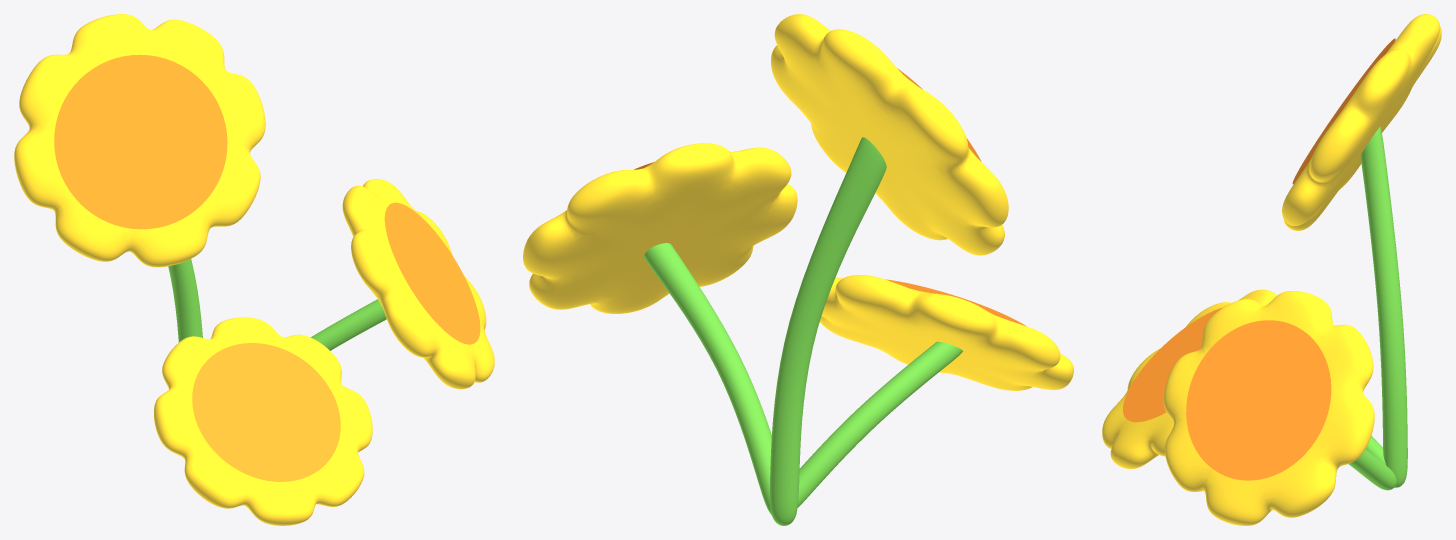
Rendered from Flowers.glb.
3 views of the same model, side by side, from view 1: azimuth 30°, elevation 25°; view 2: azimuth 150°, elevation 25°; view 3: azimuth 270°, elevation 25° (orthographic). The views are drawn at different scales.
Visible parts, largest first — view 1: Cylinder 2 (×3), Ellipse 2 (×3), Cube 38, Cube 39; view 2: Cylinder 2 (×3), Cube 39 (×2), Cube 38; view 3: Cylinder 2 (×3), Ellipse 2 (×3), Cube 38, Cube 39.
Boxes of the visible parts, bbox=[...] form: Cylinder 2 (×3): bbox=[14, 14, 494, 525]; Ellipse 2 (×3): bbox=[54, 54, 480, 481]; Cube 38: bbox=[168, 259, 202, 342]; Cube 39: bbox=[311, 299, 386, 350]; Cylinder 2 (×3): bbox=[523, 14, 1073, 390]; Cube 39 (×2): bbox=[644, 243, 962, 514]; Cube 38: bbox=[770, 137, 886, 525]; Cylinder 2 (×3): bbox=[1102, 14, 1441, 525]; Ellipse 2 (×3): bbox=[1123, 38, 1395, 480]; Cube 38: bbox=[1360, 126, 1407, 487]; Cube 39: bbox=[1348, 449, 1396, 490].
Size of the model in its own units: 0.6414 by 0.62 by 0.4392.
